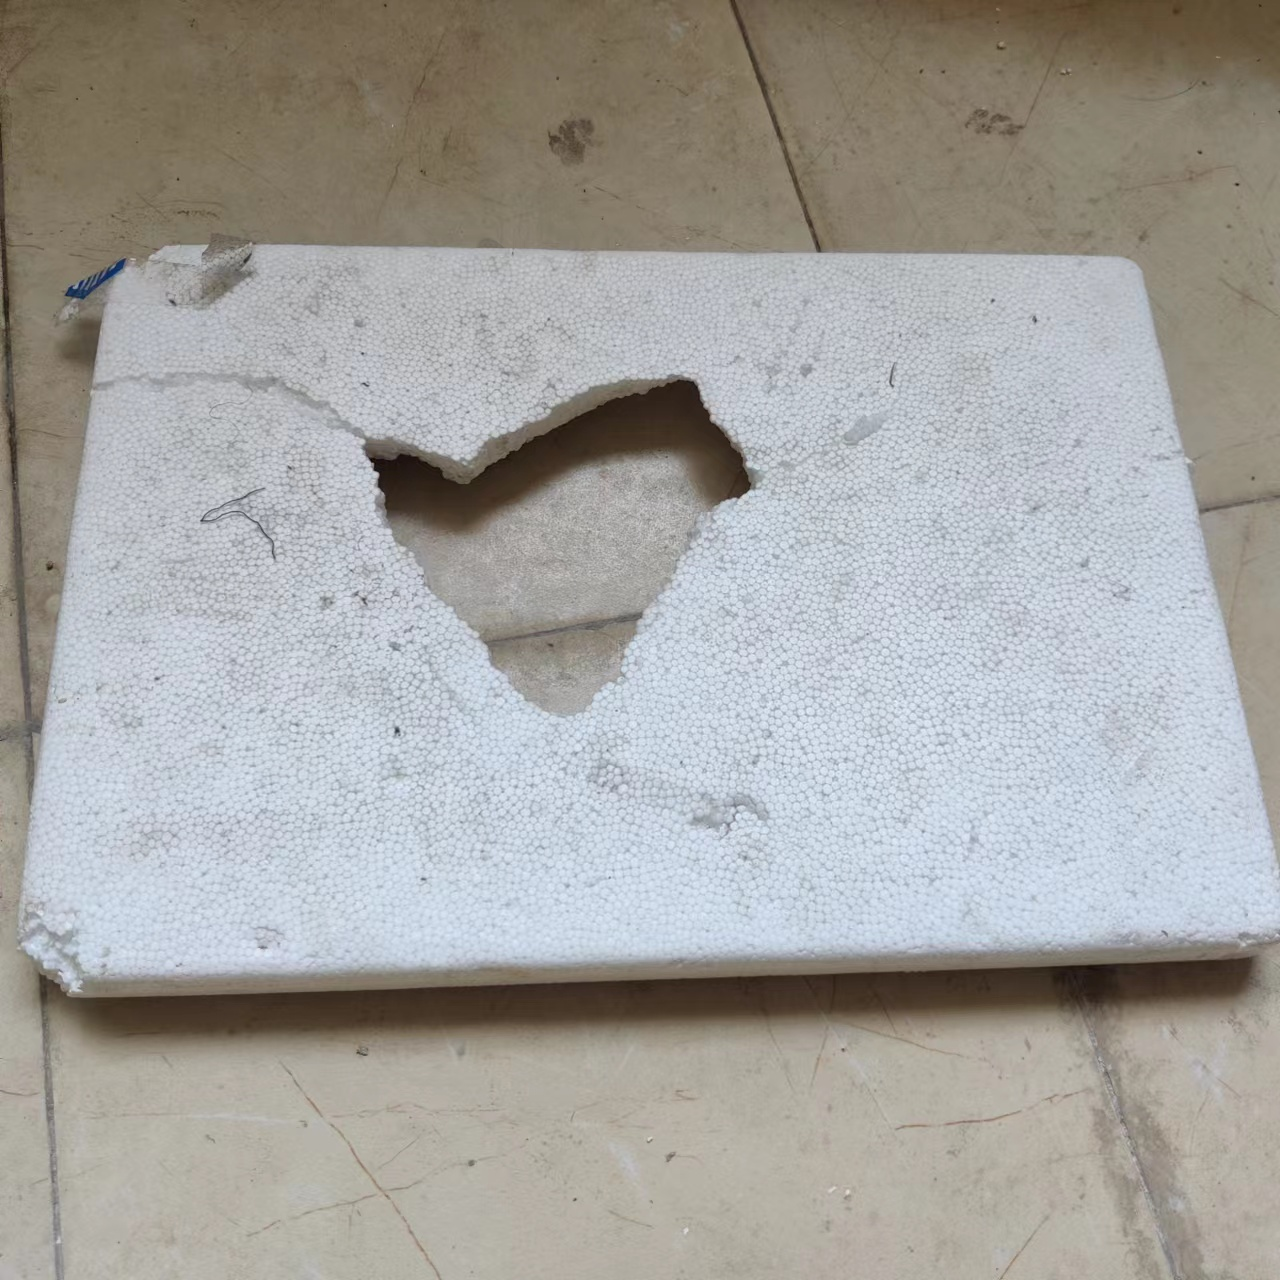5/可回收垃圾/泡沫: (14, 240, 1280, 999)
